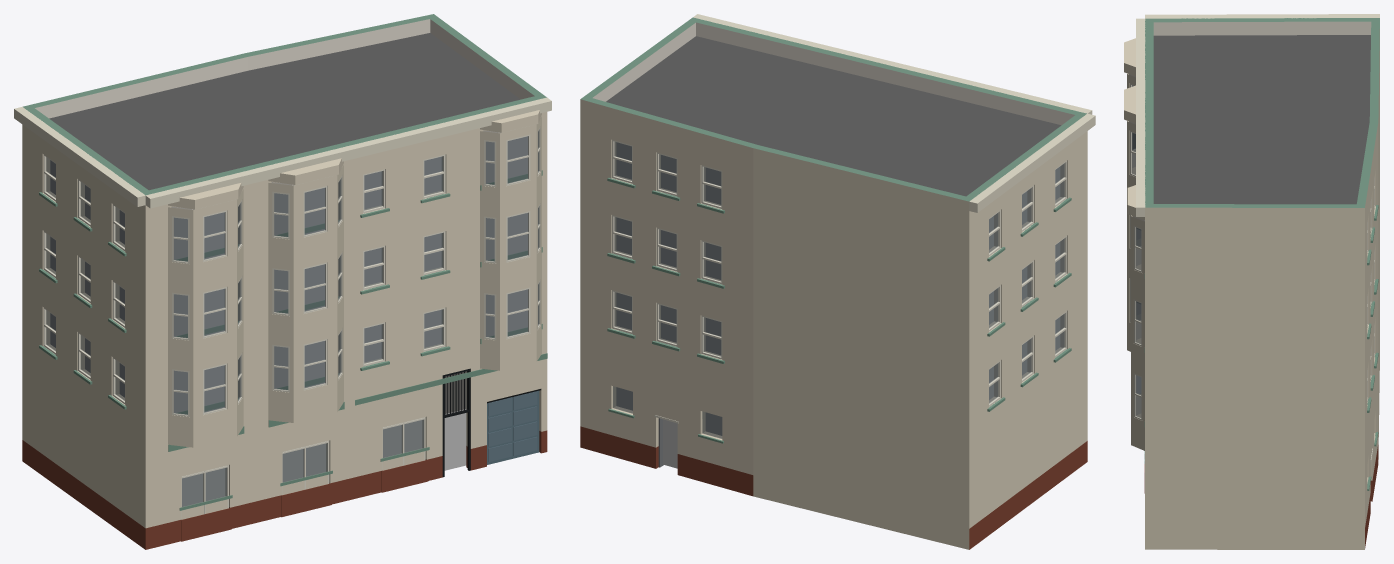
Rendered from exterior.glb.
3 views of the same model, side by side, from view 1: azimuth 30°, elevation 25°; view 2: azimuth 150°, elevation 25°; view 3: azimuth 270°, elevation 25° (orthographic). The views are drawn at different scales.
Visible parts, largest first — view 1: shell, bay-windows, roof, shadow-proxy, bay-glazing, relief-1, glazing, storefront, frames, relief-0, trim; view 2: shell, roof, glazing, shadow-proxy, frames, relief-0, trim, relief-1; view 3: shell, roof, bay-windows, relief-1, bay-glazing, relief-0, trim, frames.
Part boxes in pixels (x1=…): shell: x1=22, y1=14, x2=547, y2=549; bay-windows: x1=168, y1=110, x2=541, y2=447; roof: x1=49, y1=33, x2=520, y2=190; shadow-proxy: x1=50, y1=136, x2=527, y2=506; bay-glazing: x1=172, y1=127, x2=540, y2=416; relief-1: x1=145, y1=97, x2=551, y2=541; glazing: x1=46, y1=156, x2=442, y2=506; storefront: x1=181, y1=368, x2=541, y2=519; frames: x1=43, y1=154, x2=445, y2=404; relief-0: x1=14, y1=106, x2=145, y2=206; trim: x1=39, y1=192, x2=450, y2=409; shell: x1=580, y1=17, x2=1087, y2=549; roof: x1=606, y1=36, x2=1061, y2=196; glazing: x1=613, y1=142, x2=1064, y2=438; shadow-proxy: x1=616, y1=142, x2=1059, y2=468; frames: x1=612, y1=140, x2=1066, y2=406; relief-0: x1=969, y1=113, x2=1095, y2=212; trim: x1=607, y1=178, x2=1071, y2=443; relief-1: x1=693, y1=14, x2=1092, y2=114; shell: x1=1145, y1=18, x2=1379, y2=549; roof: x1=1153, y1=35, x2=1370, y2=204; bay-windows: x1=1124, y1=38, x2=1144, y2=450; relief-1: x1=1136, y1=18, x2=1145, y2=493; bay-glazing: x1=1128, y1=74, x2=1142, y2=420; relief-0: x1=1145, y1=14, x2=1379, y2=18; trim: x1=1367, y1=205, x2=1378, y2=490; frames: x1=1367, y1=176, x2=1374, y2=401.
Bounding box in the file's own units: 17.98 × 14.78 × 10.03.
